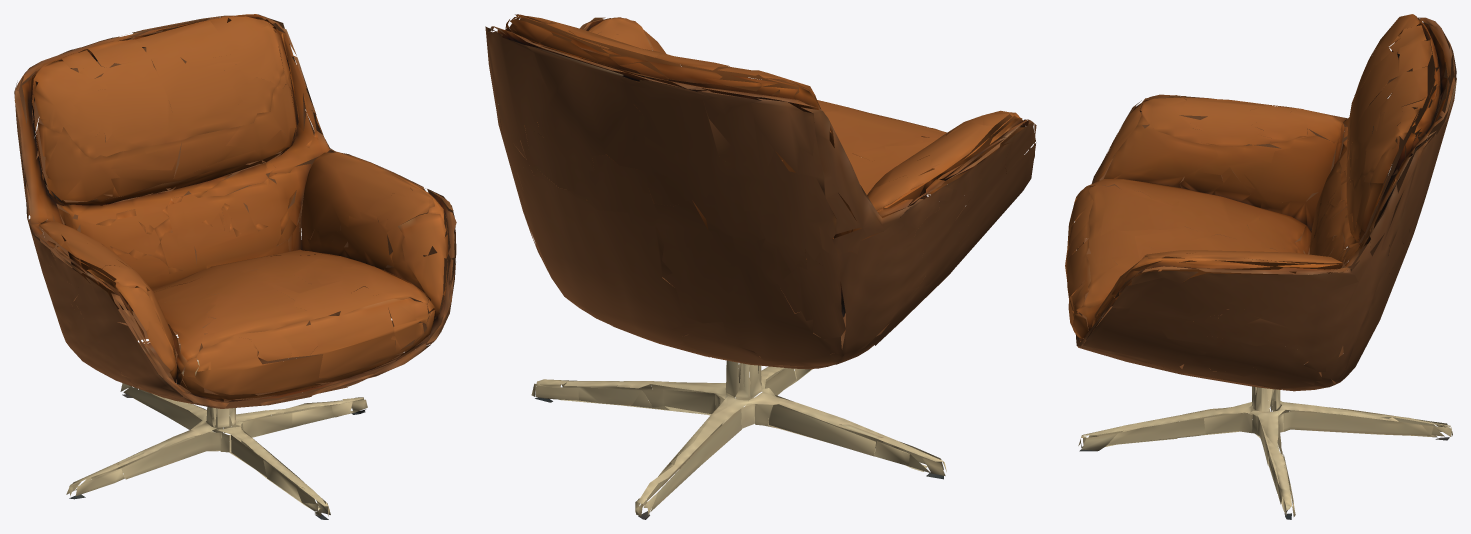
Rendered from lounge_chair.glb.
3 renders of one model, left to right at view 1: azimuth 30°, elevation 25°; view 2: azimuth 150°, elevation 25°; view 3: azimuth 270°, elevation 25°, orthographic. The views are drawn at different scales.
Parts seen in each view (by area): view 1: LO.001; view 2: LO.001; view 3: LO.001.
Part boxes in pixels (<box>): LO.001: <box>14,14,456,519</box>; LO.001: <box>485,14,1036,519</box>; LO.001: <box>1065,14,1456,519</box>.
Size of the model in its own units: 0.8513 by 0.8501 by 0.8021.
1 material, 1 textured.
